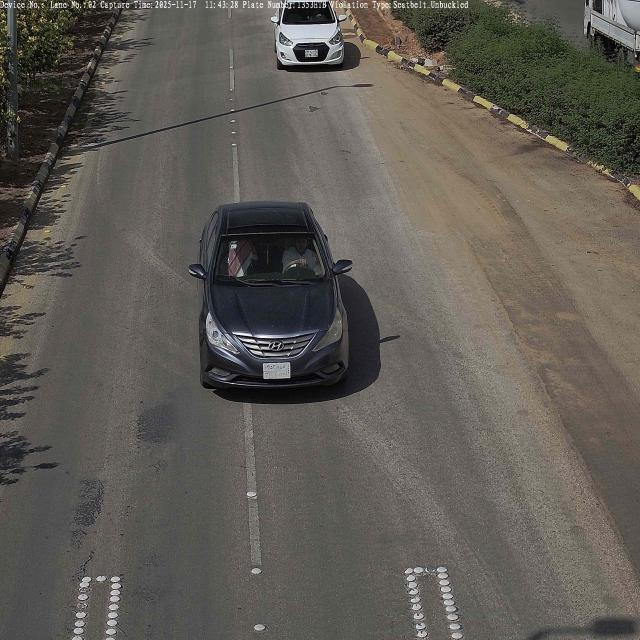person_without_seatbelt: (282, 237, 316, 274)
